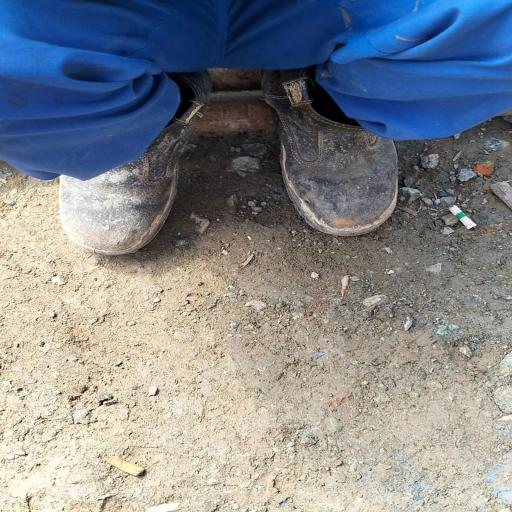safety_shoe: (248, 61, 411, 237), (26, 96, 198, 255)
